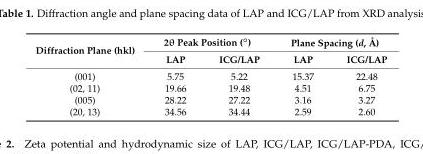table: (34, 34, 386, 116)
table column: (34, 34, 148, 116), (201, 34, 274, 116), (329, 34, 386, 116), (274, 34, 329, 116), (148, 34, 201, 116)
table column header: (34, 34, 386, 67)
table row: (34, 50, 386, 67), (34, 34, 386, 50), (34, 67, 386, 81), (34, 81, 386, 93), (34, 93, 386, 105), (34, 105, 386, 116)
table spanning cell: (34, 34, 148, 67), (148, 34, 274, 50), (274, 34, 386, 50)
